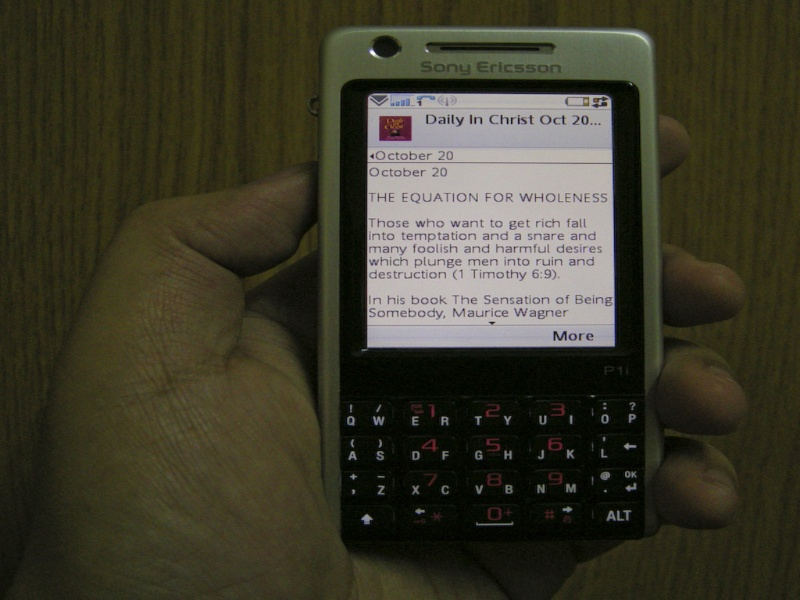cellphone: (308, 21, 672, 555)
